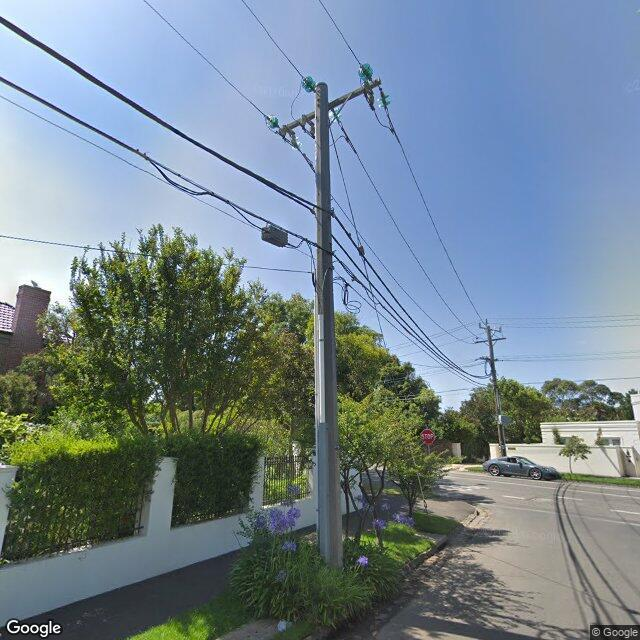HV-transmission: (265, 63, 392, 150), (479, 318, 501, 332)
crossarm: (278, 77, 381, 135), (474, 338, 507, 343), (479, 327, 501, 332), (479, 357, 499, 361)
timber-pole: (314, 82, 343, 569), (488, 326, 507, 458)
